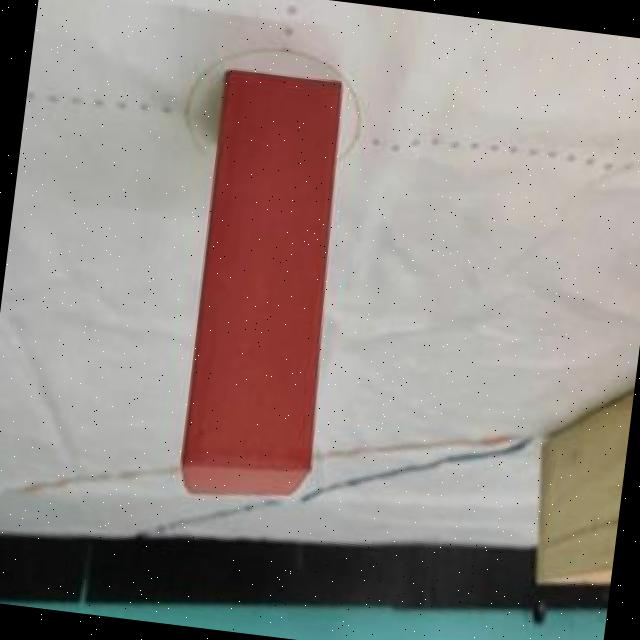redbox: (172, 59, 356, 506)
